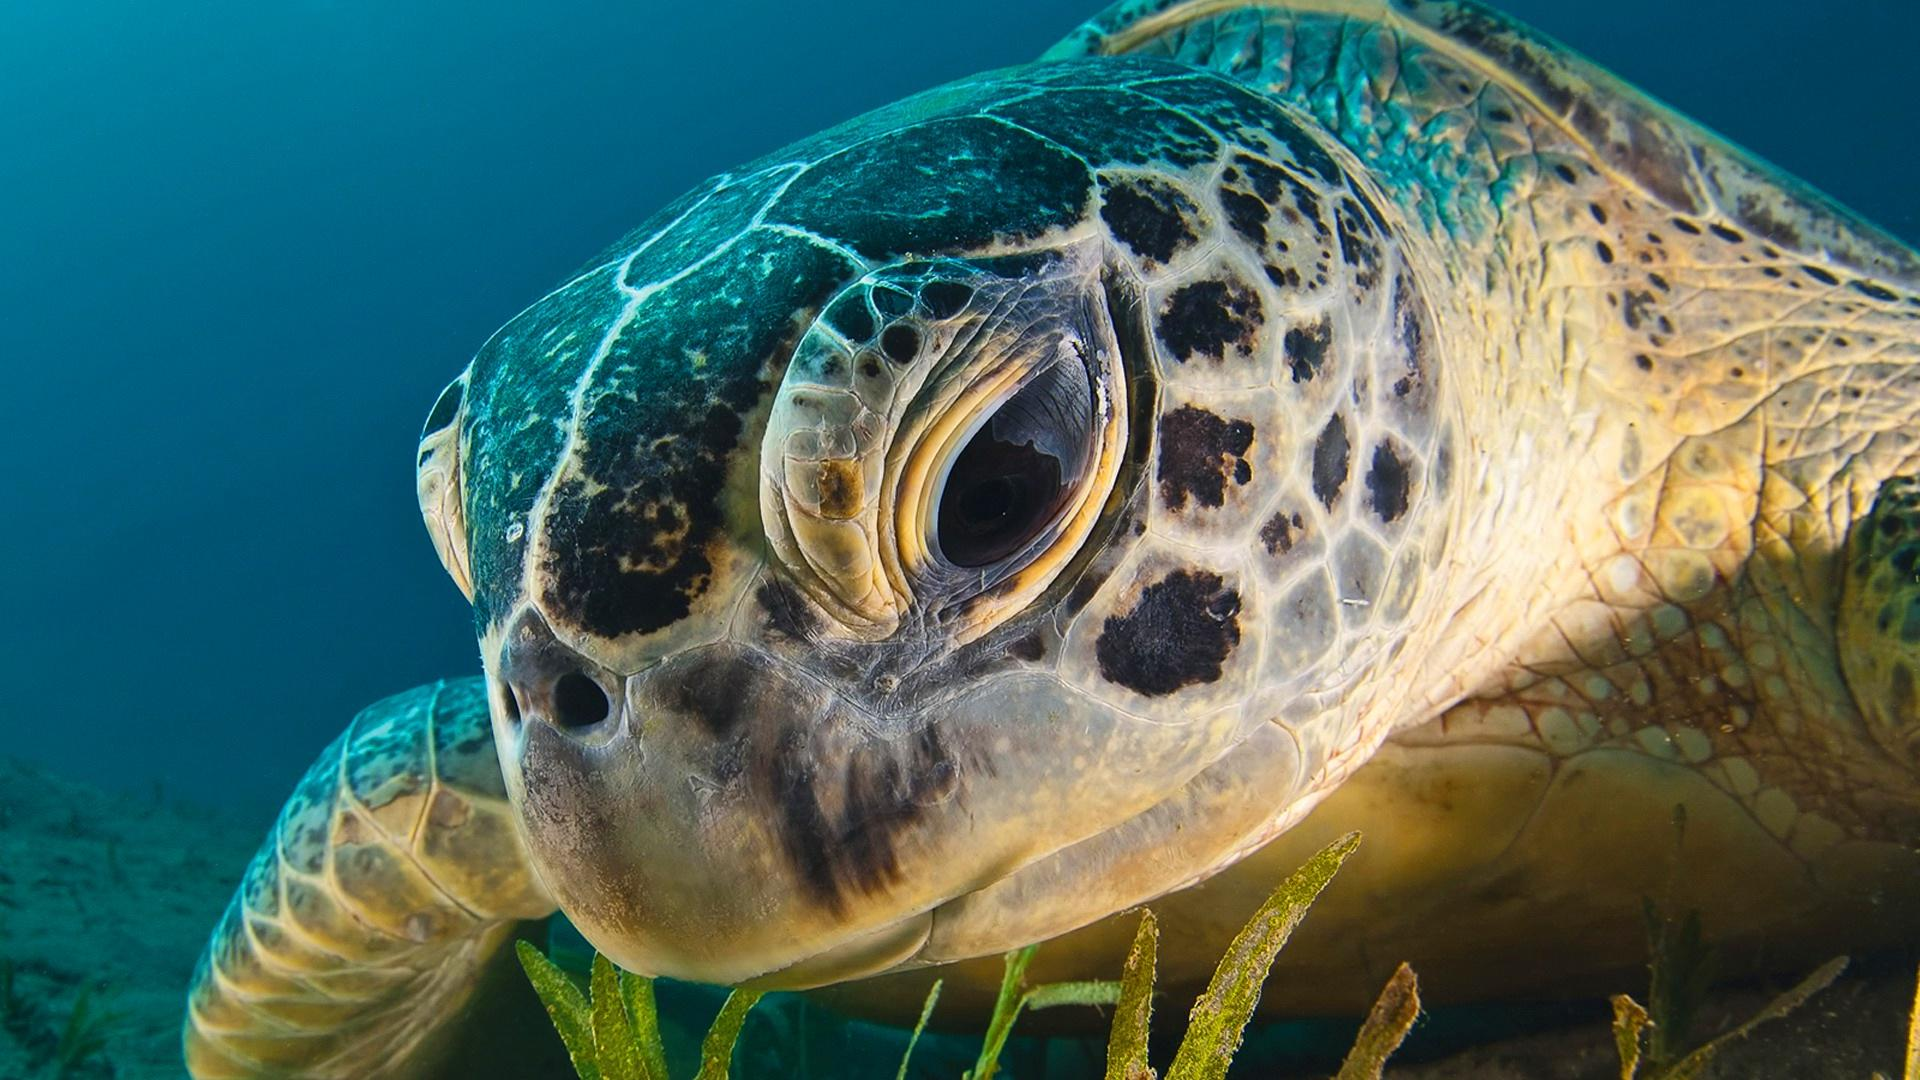turtle: (389, 29, 1478, 1036)
